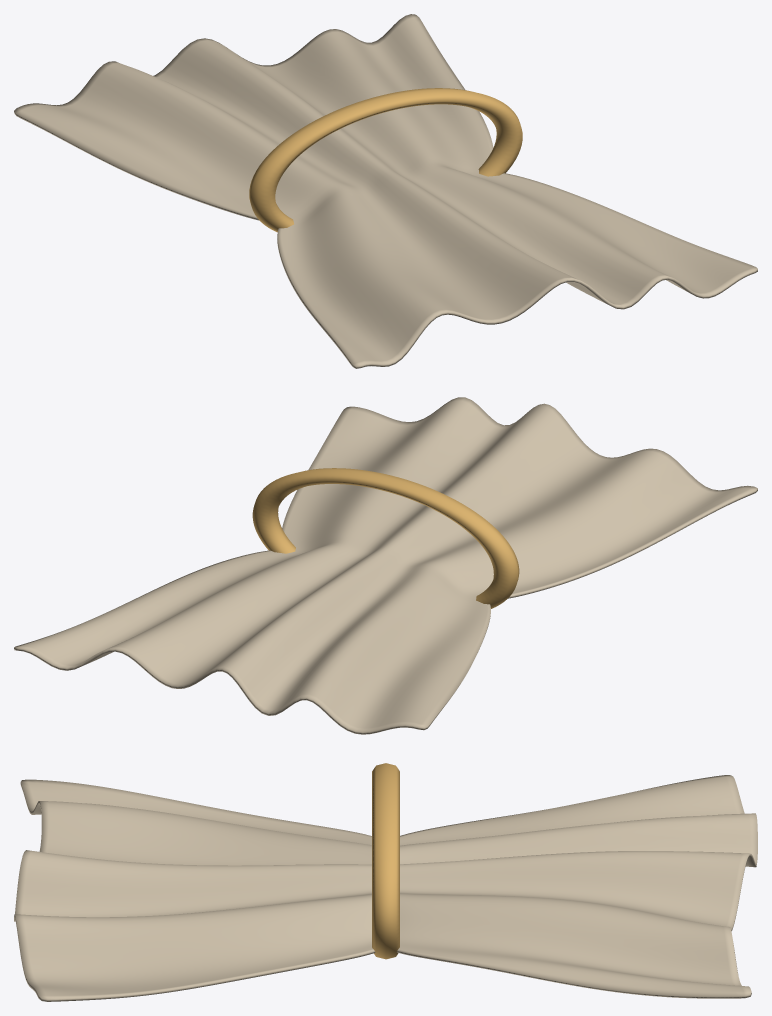
Rendered from napkin.glb.
3 renders of one model, top to bottom at view 1: azimuth 30°, elevation 25°; view 2: azimuth 150°, elevation 25°; view 3: azimuth 270°, elevation 25°, orthographic. The views are drawn at different scales.
Visible parts, largest first — view 1: Gathered linen, Oval napkin clasp; view 2: Gathered linen, Oval napkin clasp; view 3: Gathered linen, Oval napkin clasp.
Boxes of the visible parts, x1,y1,x2,y2 form: Gathered linen: (14, 14, 757, 368); Oval napkin clasp: (249, 88, 522, 232); Gathered linen: (14, 397, 757, 734); Oval napkin clasp: (252, 468, 519, 608); Gathered linen: (14, 775, 757, 1001); Oval napkin clasp: (372, 763, 399, 959).
Size of the model in its own units: 0.6343 by 0.1997 by 0.9557.
